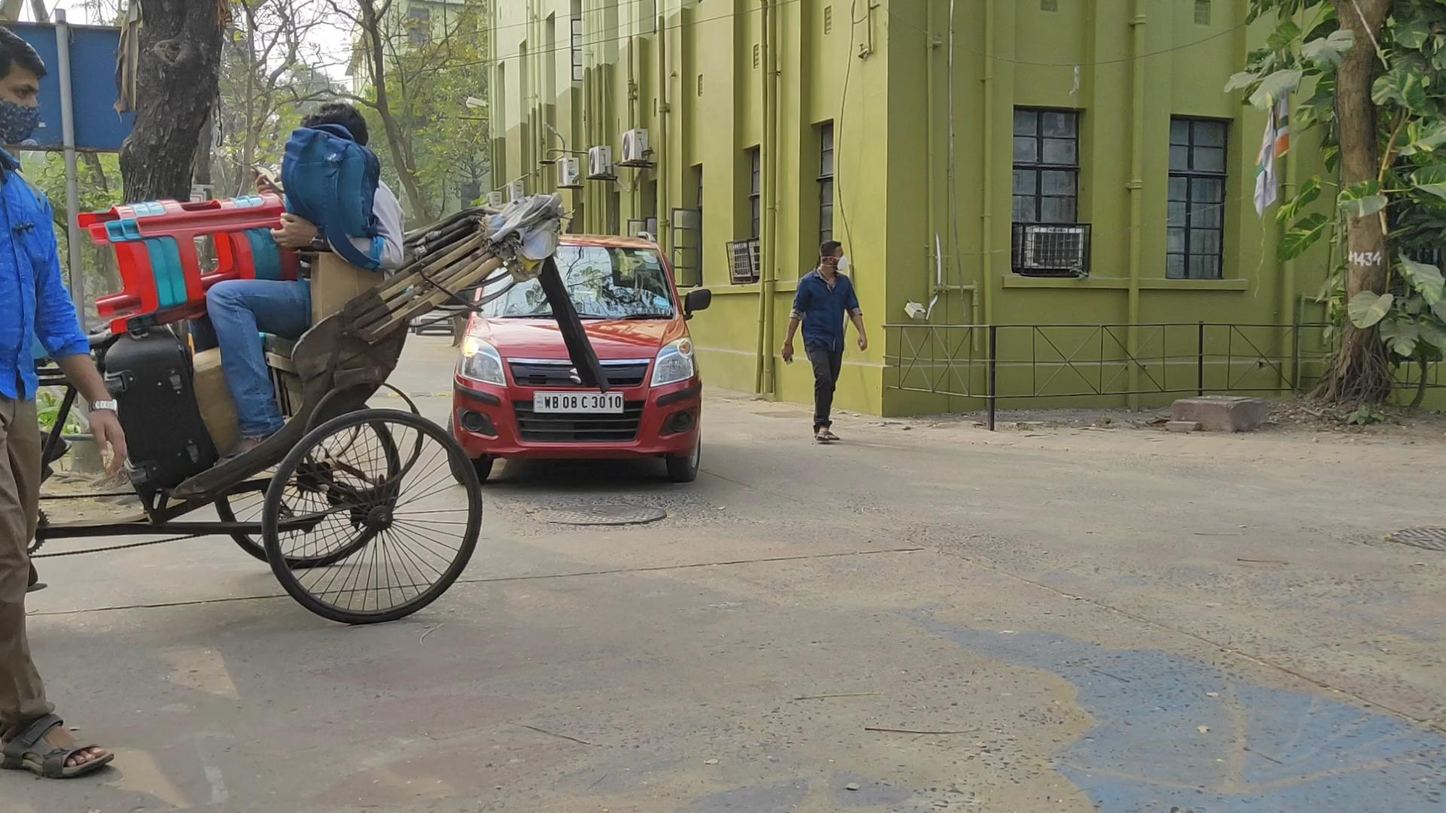car: (462, 233, 703, 491)
